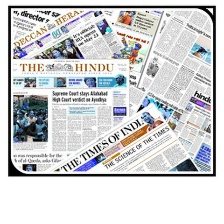news_paper: (9, 58, 128, 179), (39, 102, 202, 173), (137, 8, 223, 120), (120, 78, 212, 172), (10, 6, 122, 60), (104, 7, 166, 92)
